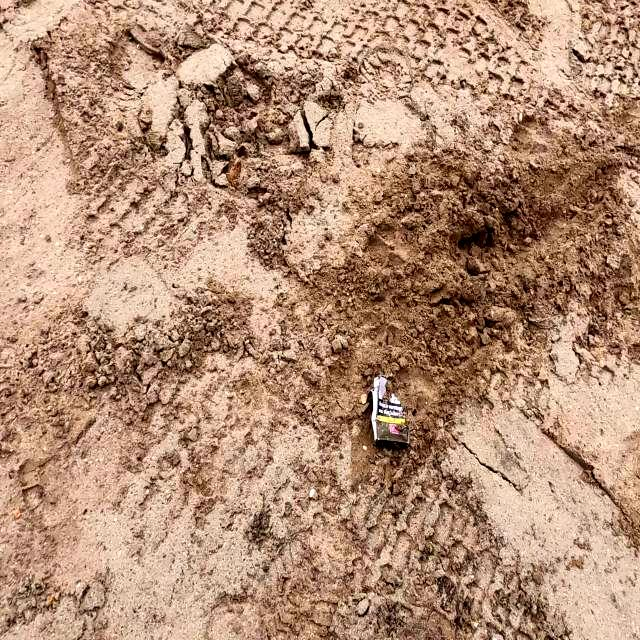Paper: (370, 372, 412, 448)
